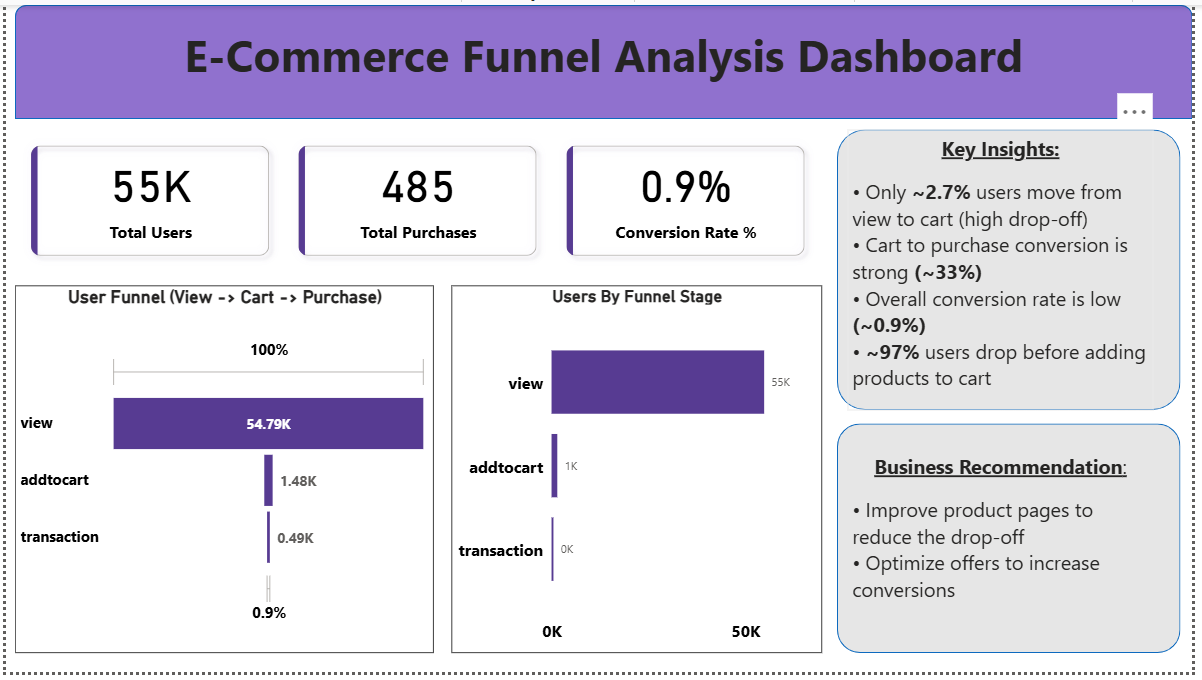

Layout of this report page (visuals, bound fields, positions):
{"tool":"powerbi","page":{"name":"Page 1","canvas":[1280,720],"ordinal":0},"visuals":[{"type":"shape","box":[897.1,134.4,370.8,302.8],"z":0},{"type":"shape","box":[9.7,0,1271.1,123.1],"z":1000},{"type":"textbox","box":[9.7,14.6,1271.1,153.8],"z":2000},{"type":"cardVisual","fields":{"Data":["events_cleaned.Total Users","events_cleaned.Purchase Users","events_cleaned.Conversion Rate"]},"box":[9.7,134.4,871.1,153.8],"z":3000},{"type":"funnel","title":"User Funnel (View -> Cart -> Purchase)","fields":{"Category":["events_cleaned.event"],"Y":["Count(events_cleaned.user_id)"]},"box":[9.7,302.8,451.8,396.7],"z":4000},{"type":"barChart","title":"Users By Funnel Stage","fields":{"Category":["events_cleaned.event"],"Y":["Count(events_cleaned.user_id)"]},"box":[480.9,302.8,399.9,396.7],"z":5000},{"type":"textbox","box":[908.4,134.4,330.3,302.8],"z":6000},{"type":"shape","box":[897.1,451.8,370.8,247.7],"z":6001},{"type":"textbox","box":[908.4,477.7,330.3,205.6],"z":6002}]}

Visuals, with their boxes in screenshot pixels (x1, y1, x2, y2), scaled from the page's 1280x720 canvas onto the 1202x680 screenshot:
shape: 842, 127, 1191, 413
shape: 9, 0, 1201, 116
textbox: 9, 14, 1201, 159
cardVisual - events_cleaned.Total Users x events_cleaned.Purchase Users: 9, 127, 827, 272
"User Funnel (View -> Cart -> Purchase)" funnel: 9, 286, 433, 661
"Users By Funnel Stage" barChart: 452, 286, 827, 661
textbox: 853, 127, 1163, 413
shape: 842, 427, 1191, 661
textbox: 853, 451, 1163, 645
